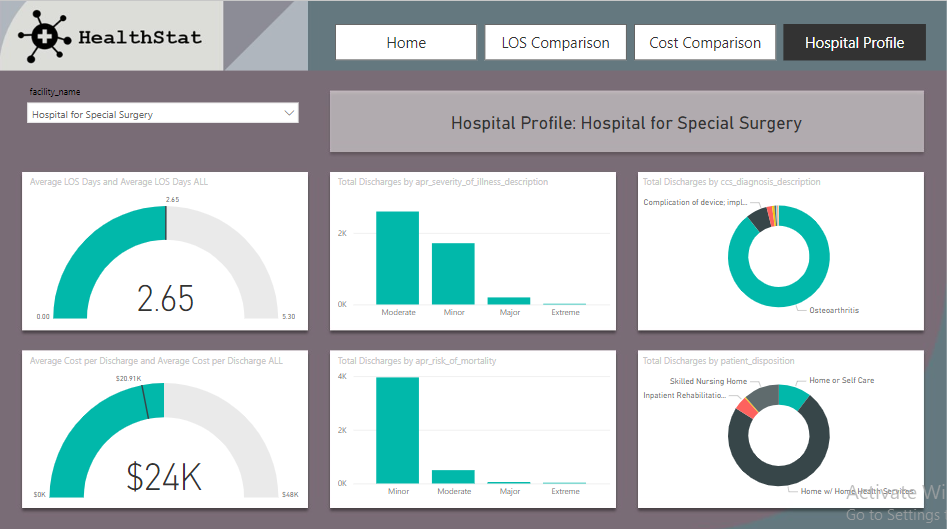

The dashboard page shown, as its layout file describes it:
{"tool":"powerbi","page":{"name":"Hospital Profile","canvas":[1280,720],"ordinal":3},"visuals":[{"type":"gauge","fields":{"Y":["_Measures.Average LOS Days"],"TargetValue":["_Measures.Average LOS Days ALL"]},"box":[35.7,235.3,377.9,203.9],"z":0},{"type":"gauge","fields":{"Y":["_Measures.Average Cost per Discharge"],"TargetValue":["_Measures.Average Cost per Discharge ALL"]},"box":[35.7,476.3,377.9,203.9],"z":1000},{"type":"clusteredColumnChart","fields":{"Y":["_Measures.Total Discharges"],"Category":["hospital_discharges.apr_severity_of_illness_description"]},"box":[450.6,235.3,377.9,203.9],"z":2000},{"type":"clusteredColumnChart","fields":{"Y":["_Measures.Total Discharges"],"Category":["hospital_discharges.apr_risk_of_mortality"]},"box":[450.6,476.3,377.9,203.9],"z":3000},{"type":"donutChart","fields":{"Y":["_Measures.Total Discharges"],"Category":["hospital_discharges.ccs_diagnosis_description"]},"box":[862.8,235.3,377.9,203.9],"z":4000},{"type":"donutChart","fields":{"Y":["_Measures.Total Discharges"],"Series":["hospital_discharges.patient_disposition"]},"box":[862.8,476.3,377.9,203.9],"z":5000},{"type":"slicer","fields":{"Values":["hospital_discharges.facility_name"]},"box":[27.1,109.8,386.5,107],"z":6000},{"type":"card","fields":{"Values":["_Measures.Title Selected Facility"]},"box":[450.6,125.5,790,75.6],"z":7000},{"type":"pageNavigator","box":[452.1,31.4,800,49.9],"z":8000}]}

Visuals, with their boxes on the page's 1280x720 design canvas (x1, y1, x2, y2). These are canvas units, not pixel positions in the 947x529 screenshot, which may show the page scaled, cropped or inside an application window:
gauge - _Measures.Average LOS Days x _Measures.Average LOS Days ALL: region(36, 235, 414, 439)
gauge - _Measures.Average Cost per Discharge x _Measures.Average Cost per Discharge ALL: region(36, 476, 414, 680)
clusteredColumnChart - _Measures.Total Discharges x hospital_discharges.apr_severity_of_illness_description: region(451, 235, 828, 439)
clusteredColumnChart - _Measures.Total Discharges x hospital_discharges.apr_risk_of_mortality: region(451, 476, 828, 680)
donutChart - _Measures.Total Discharges x hospital_discharges.ccs_diagnosis_description: region(863, 235, 1241, 439)
donutChart - _Measures.Total Discharges x hospital_discharges.patient_disposition: region(863, 476, 1241, 680)
slicer - hospital_discharges.facility_name: region(27, 110, 414, 217)
card - _Measures.Title Selected Facility: region(451, 126, 1241, 201)
pageNavigator: region(452, 31, 1252, 81)
